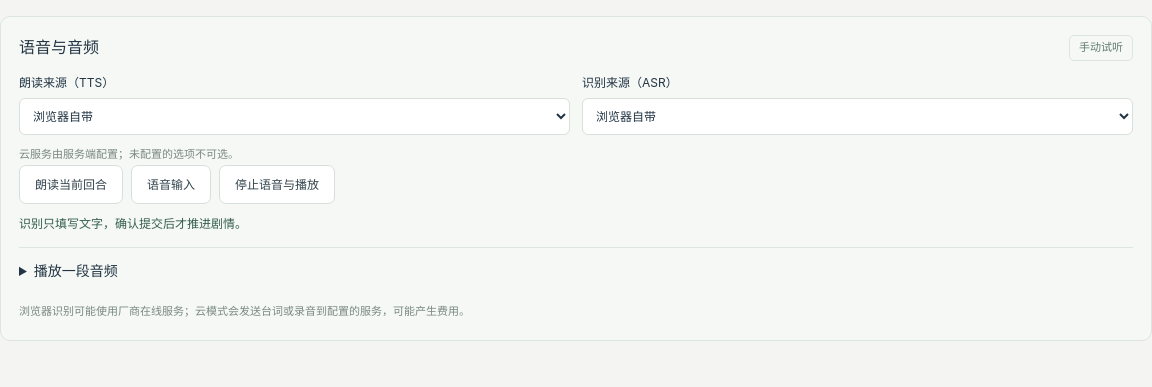
Test case: simulator speech A01–A05 › reports cloud failures without secretly using browser synthesis
Expected: the text "云服务由服务端配置；未配置的选项不可选。" is shown, [19,147,239,161]
Select "云服务（已配置）" in the dropdown labelled "朗读来源（TTS）" at (294, 116), box [19,98,570,135]
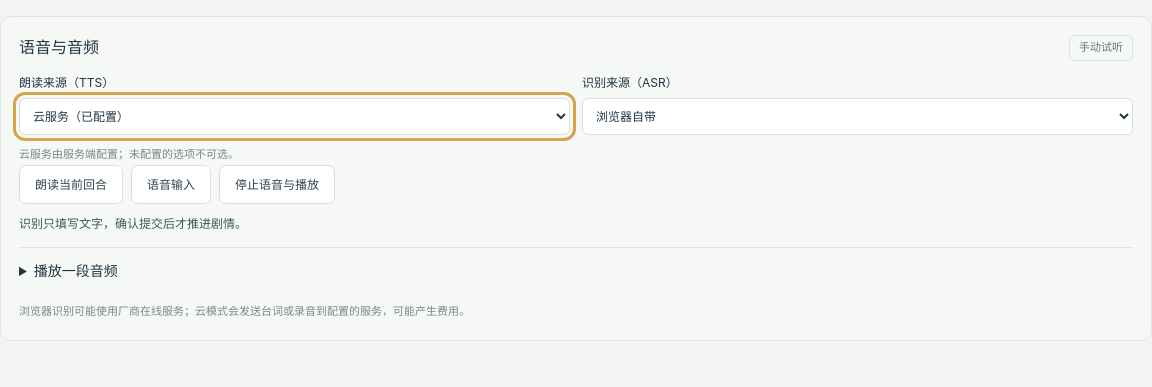
Click the button "朗读当前回合".
click(71, 184)  # box [19,165,123,204]
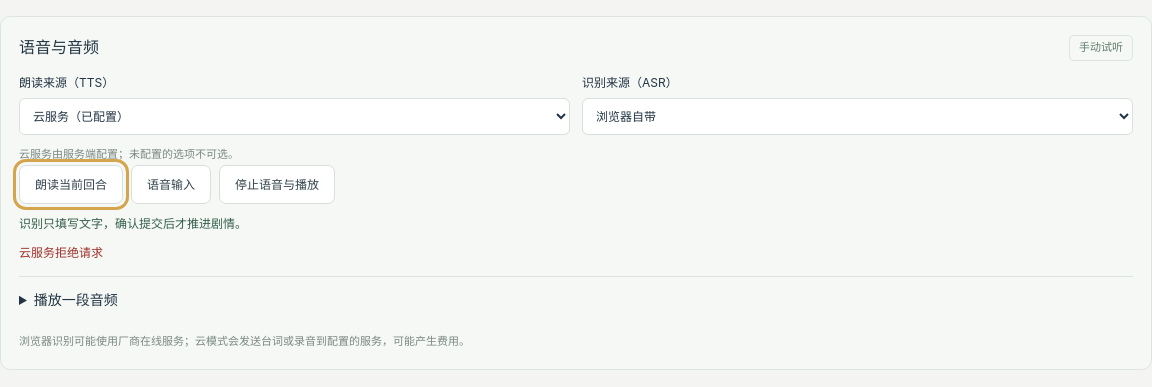
Result: the message "云服务拒绝请求" is shown at [19,245,103,260]
